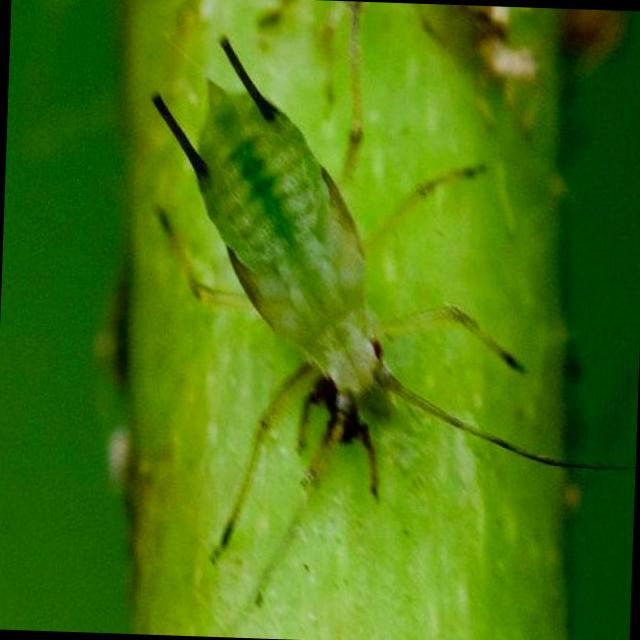aphid: (103, 41, 582, 570)
